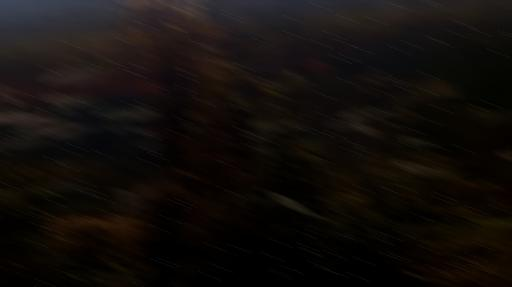Fish: (387, 79, 458, 108), (33, 182, 98, 211), (273, 194, 326, 219), (16, 119, 73, 136), (43, 65, 92, 84), (395, 162, 452, 177), (66, 66, 109, 85), (45, 124, 96, 138), (109, 105, 154, 120), (44, 95, 97, 106), (0, 113, 51, 124), (302, 58, 333, 75), (0, 139, 52, 148), (256, 43, 291, 56), (478, 110, 511, 123), (296, 134, 333, 145), (7, 138, 52, 147), (127, 108, 158, 119), (111, 188, 136, 201), (93, 106, 120, 118), (326, 121, 363, 129), (251, 117, 272, 131), (111, 109, 136, 120), (401, 138, 440, 145), (133, 127, 160, 136), (340, 111, 366, 120), (265, 34, 288, 44), (106, 123, 131, 132), (357, 125, 376, 136), (3, 93, 20, 104), (269, 82, 289, 90), (0, 109, 25, 115), (137, 142, 158, 149), (54, 107, 73, 114), (249, 133, 268, 140), (0, 87, 18, 93), (500, 152, 511, 161), (187, 126, 200, 131)
